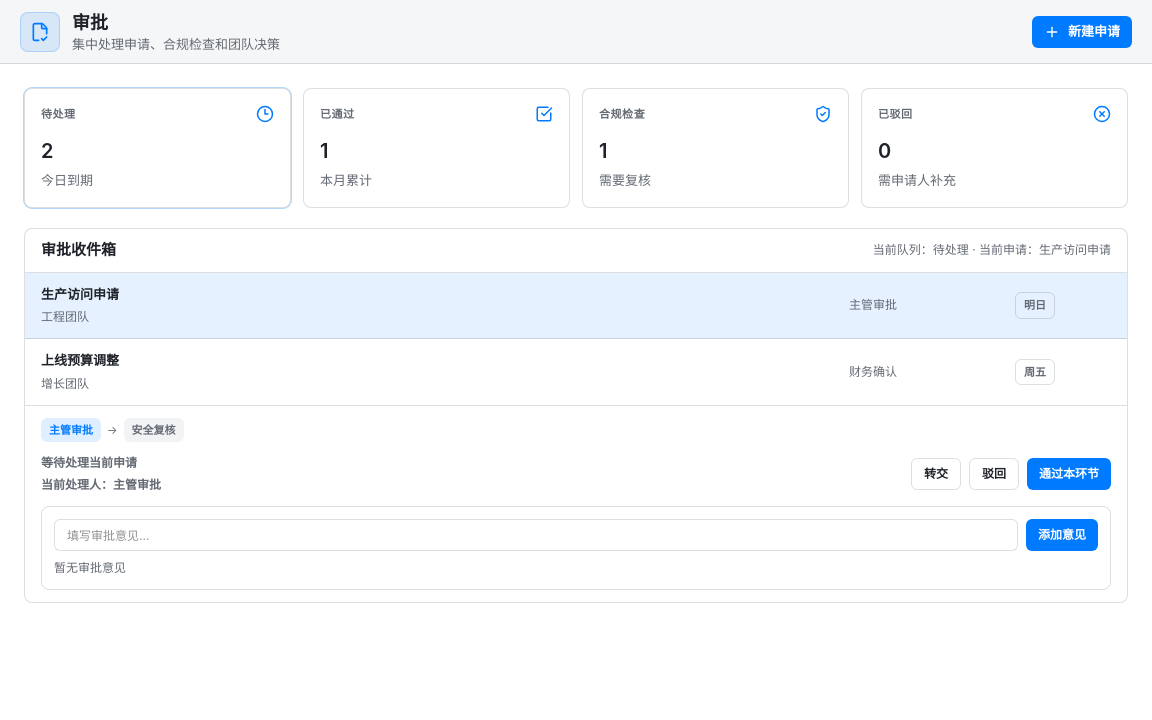
Test: workspace secondary pages › lets approvals new requests be edited before saving locally
This screenshot has width=1152, height=720.
Click the button with test id "approvals-new-request": coordinates (1082, 32) left=1032, top=16, right=1132, bottom=48
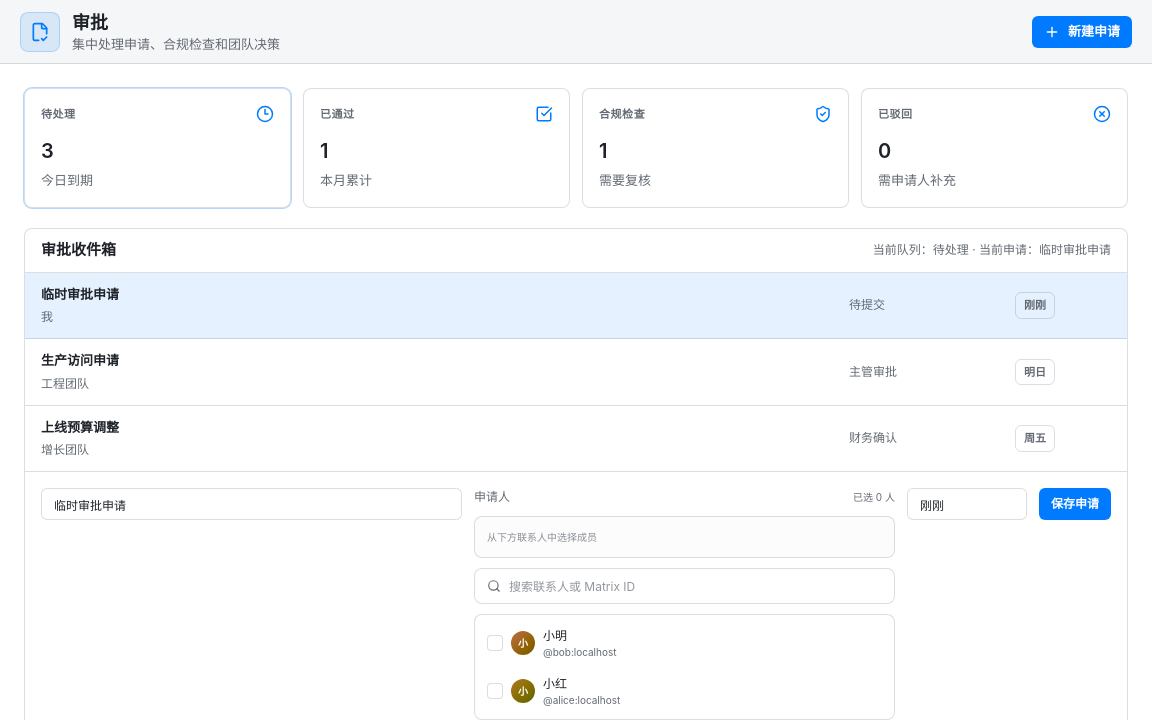
Replace the text in the field with test id "approvals-new-title" with "权限开通申请": coordinates (252, 504) left=41, top=488, right=462, bottom=520
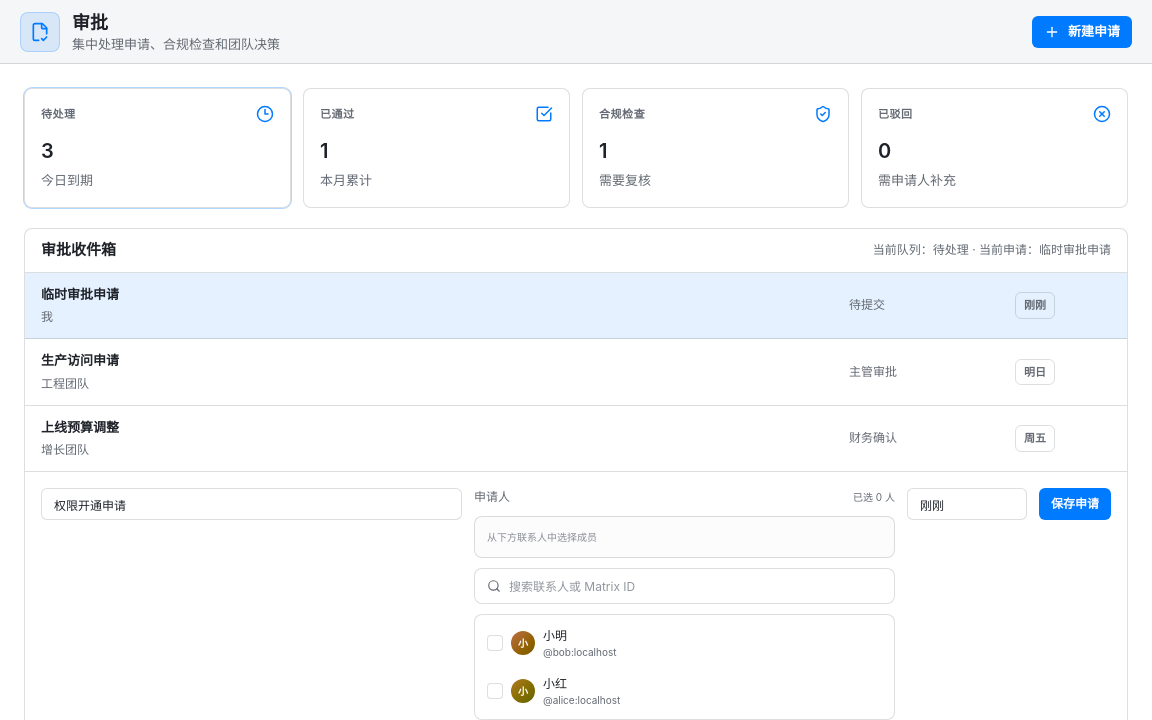
Click the button with test id "group-member-row-@alice:localhost": coordinates (582, 700) left=479, top=667, right=890, bottom=715
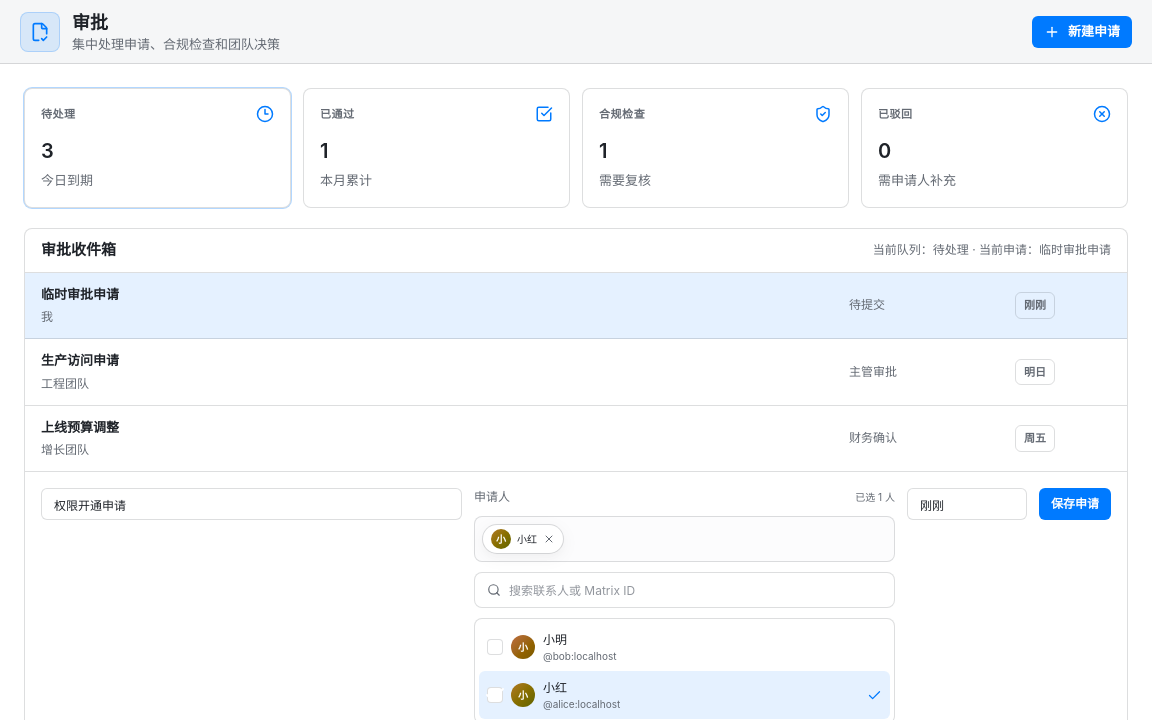
Replace the text in the field with test id "approvals-new-due" with "今日": coordinates (967, 504) left=907, top=488, right=1027, bottom=520
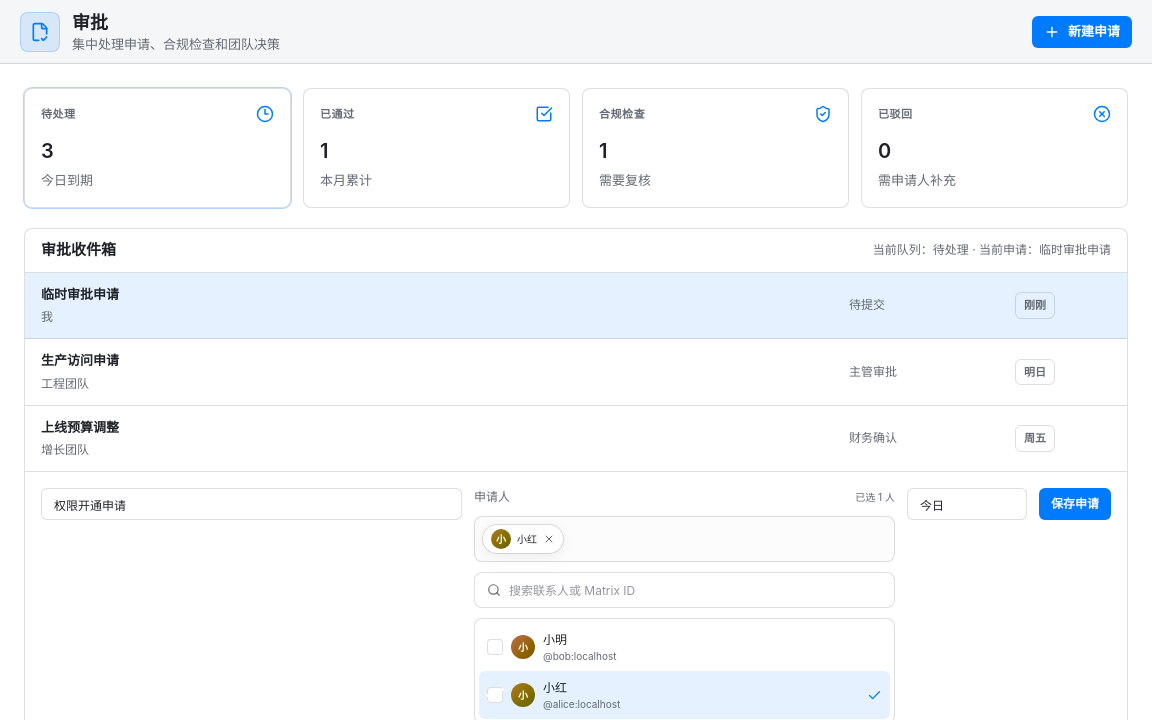
Click the button with test id "approvals-save-new-request": coordinates (1075, 504) left=1039, top=488, right=1111, bottom=520
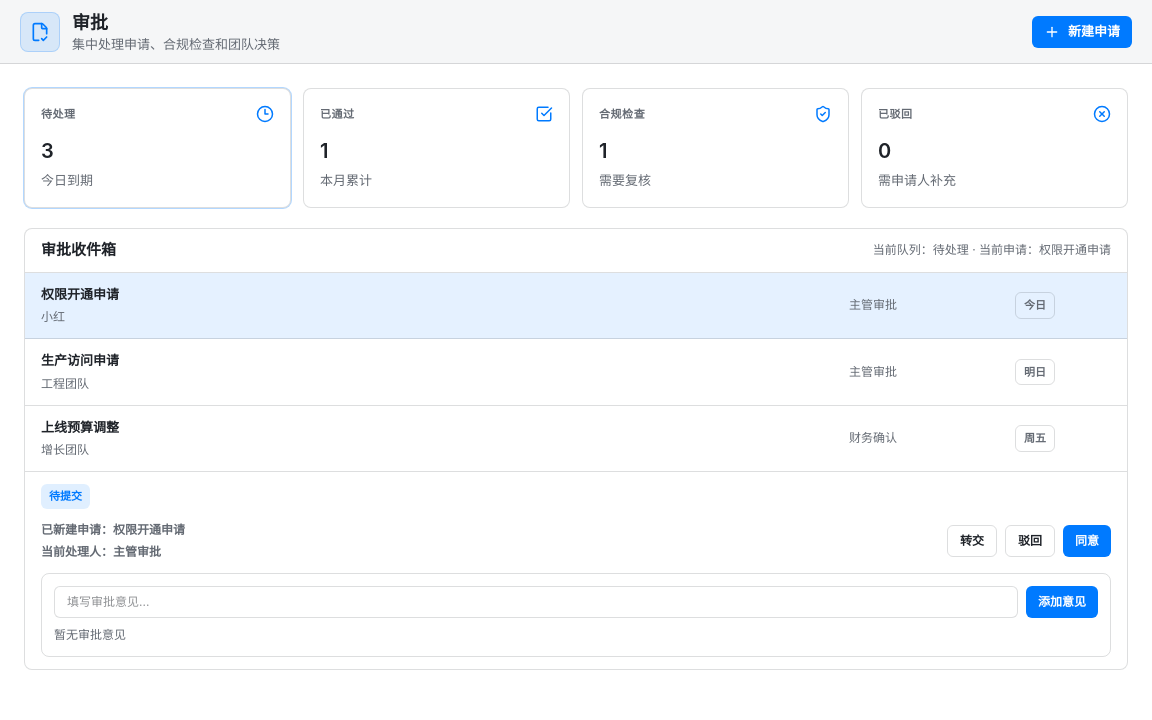
Now the text "小红" is shown, box left=41, top=309, right=65, bottom=324
Now the text "已新建申请：权限开通申请" is shown, box left=41, top=520, right=185, bottom=538
Now the text "权限开通申请" is shown, box left=972, top=242, right=1111, bottom=257
